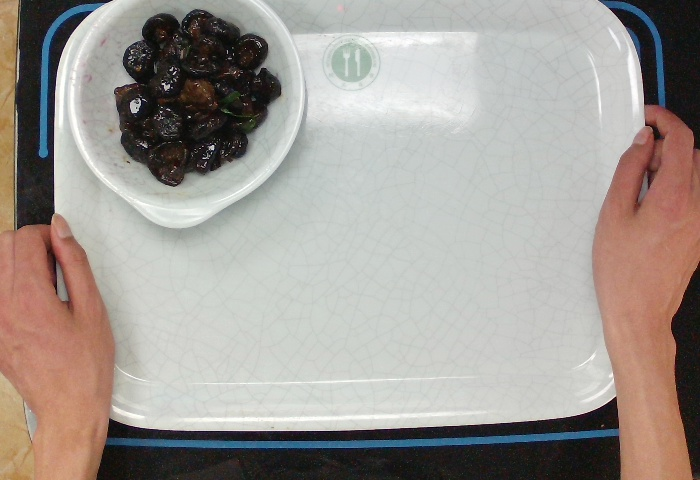JYsf-Shuang_Er_Wan: (61, 1, 308, 231)
